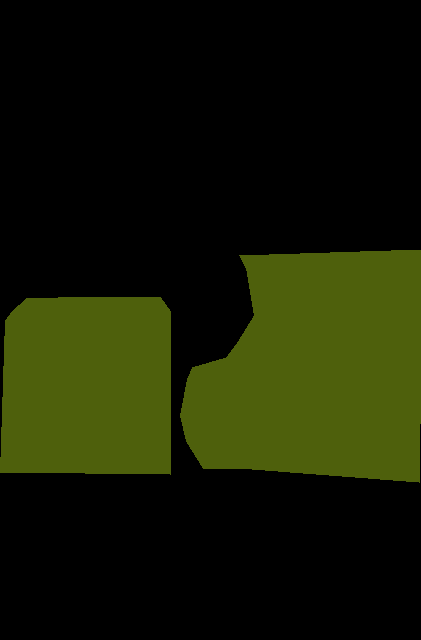Train: (0, 249, 421, 482)
